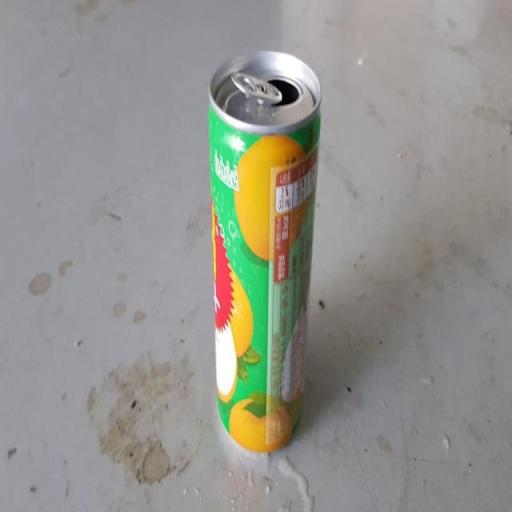metal: (196, 42, 326, 468)
